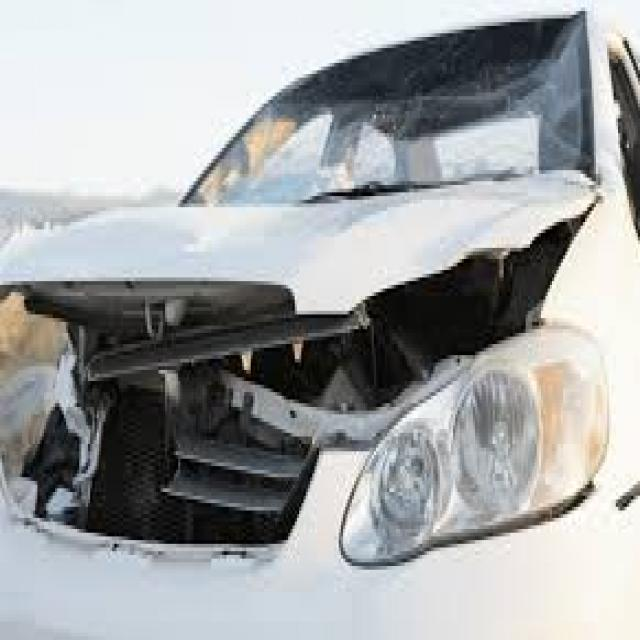severe: (0, 3, 633, 606)
